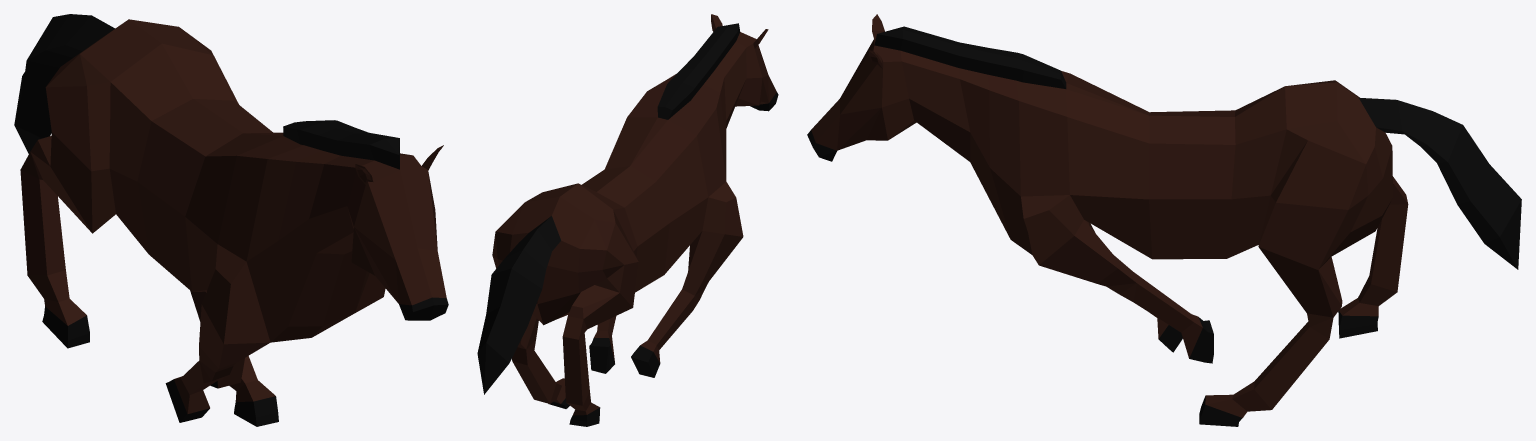
The model's file is Horse_000003.obj.
3 renders of one model, left to right at view 1: azimuth 30°, elevation 25°; view 2: azimuth 150°, elevation 25°; view 3: azimuth 270°, elevation 25°, orthographic. The views are drawn at different scales.
Visible parts, largest first — view 1: Horse_Cylinder; view 2: Horse_Cylinder; view 3: Horse_Cylinder.
Part boxes in pixels (x1=…): Horse_Cylinder: x1=14, y1=14, x2=448, y2=426; Horse_Cylinder: x1=477, y1=14, x2=778, y2=426; Horse_Cylinder: x1=807, y1=14, x2=1521, y2=426.
Size of the model in its own units: 2.58 by 5.86 by 10.27.
